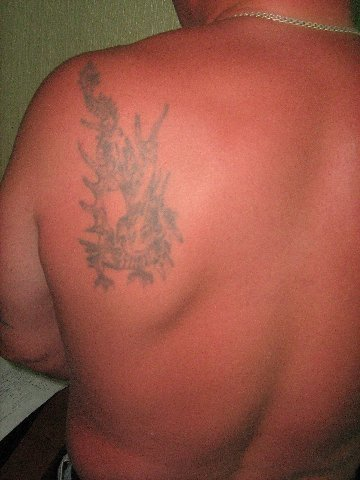tatu6_drakon: (60, 63, 197, 290)
